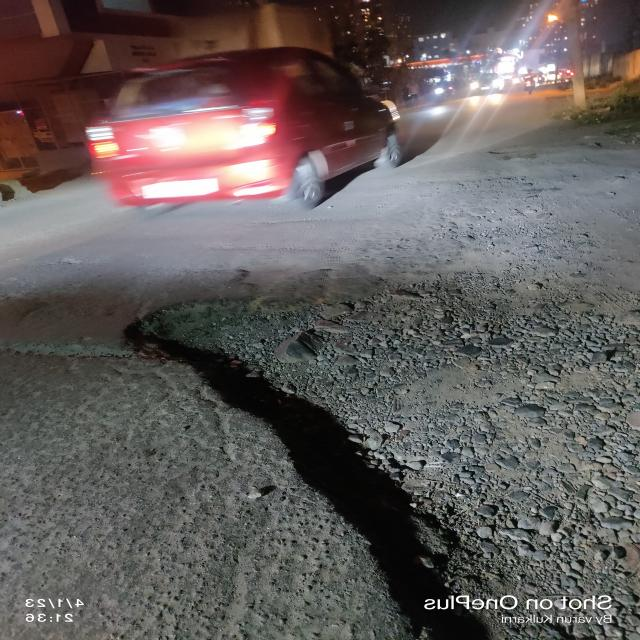potholes: (83, 297, 513, 640)
